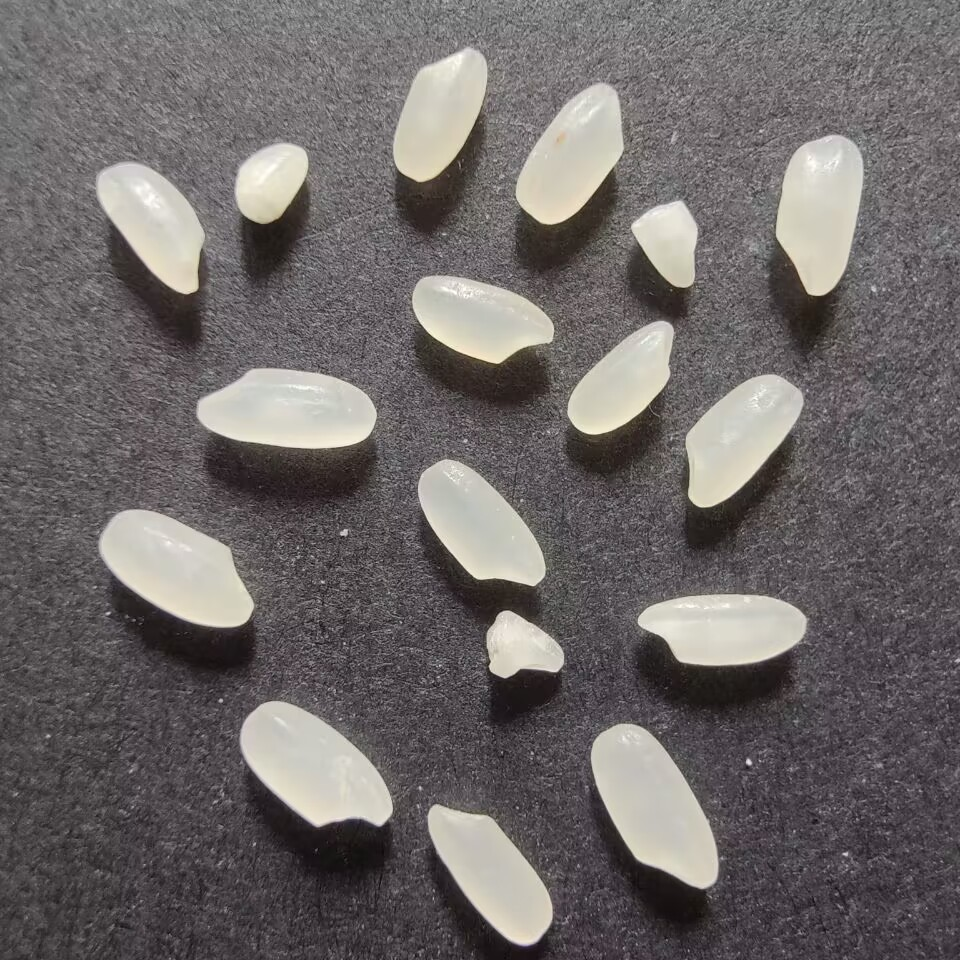broken: (627, 194, 706, 295), (226, 138, 313, 227), (478, 607, 569, 683)
rice: (584, 720, 721, 898), (229, 697, 396, 835), (94, 503, 259, 633), (419, 801, 559, 948), (412, 457, 551, 589), (678, 370, 807, 511), (511, 78, 627, 230), (191, 362, 379, 455), (92, 159, 215, 298), (770, 128, 865, 299), (387, 40, 493, 188), (407, 273, 561, 372), (562, 317, 679, 442), (628, 593, 811, 667)
